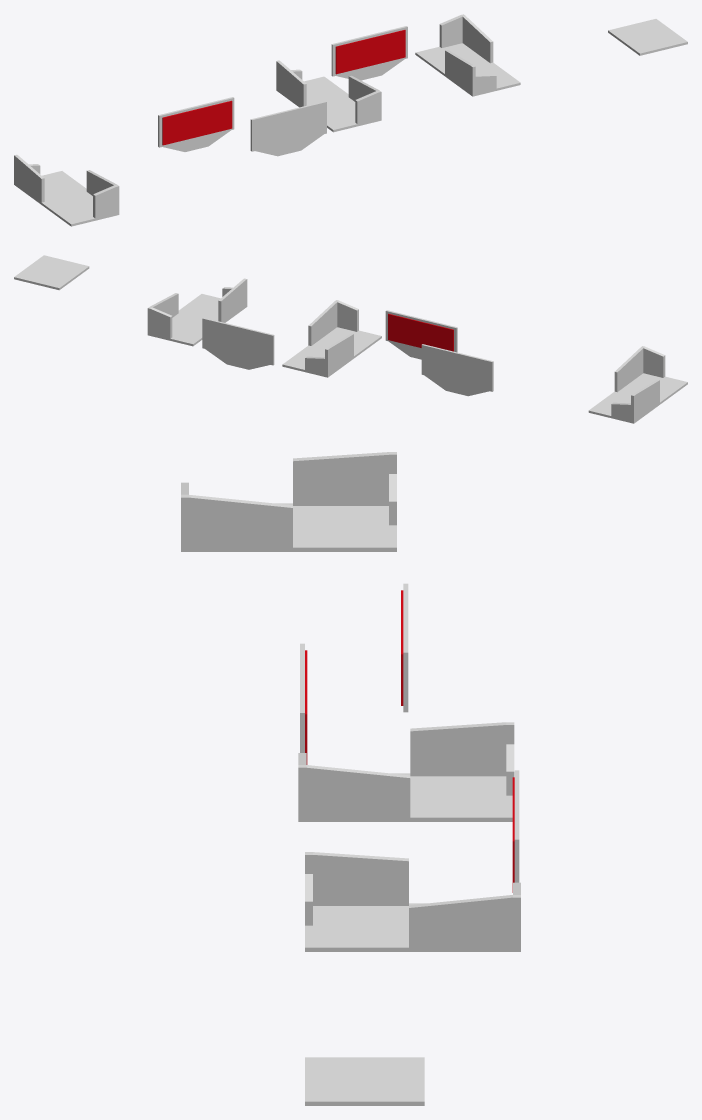
The model's file is Level 1_1.fbx.
3 views of the same model, one above another, from view 1: azimuth 30°, elevation 25°; view 2: azimuth 150°, elevation 25°; view 3: azimuth 270°, elevation 25° (orthographic). The views are drawn at different scales.
Parts seen in each view (by area): view 1: Cube.001, Cube.006, Cube.002, Cube.004, Cube.008, Cube.007, Cube, Cube.005, Cube.003; view 2: Cube.006, Cube.002, Cube.001, Cube.003, Cube.005, Cube.009, Cube, Cube.004; view 3: Cube.001, Cube.006, Cube.002, Cube.
Part boxes in pixels (x1,y1,x2,y2): Cube.001: (415, 14, 520, 96); Cube.006: (14, 154, 119, 226); Cube.002: (276, 60, 381, 132); Cube.004: (250, 101, 326, 156); Cube.008: (162, 100, 232, 145); Cube.007: (335, 30, 405, 74); Cube: (608, 19, 687, 55); Cube.005: (158, 97, 234, 151); Cube.003: (331, 26, 407, 80); Cube.006: (588, 346, 687, 423); Cube.002: (282, 300, 381, 377); Cube.001: (147, 278, 247, 346); Cube.003: (202, 317, 274, 369); Cube.005: (421, 344, 493, 396); Cube.009: (388, 313, 453, 351); Cube: (14, 255, 89, 290); Cube.004: (385, 310, 457, 359); Cube.001: (305, 852, 520, 951); Cube.006: (181, 452, 396, 551); Cube.002: (298, 722, 514, 821); Cube: (305, 1057, 424, 1105).
Size of the model in its own units: 59850 by 3732 by 14362.
